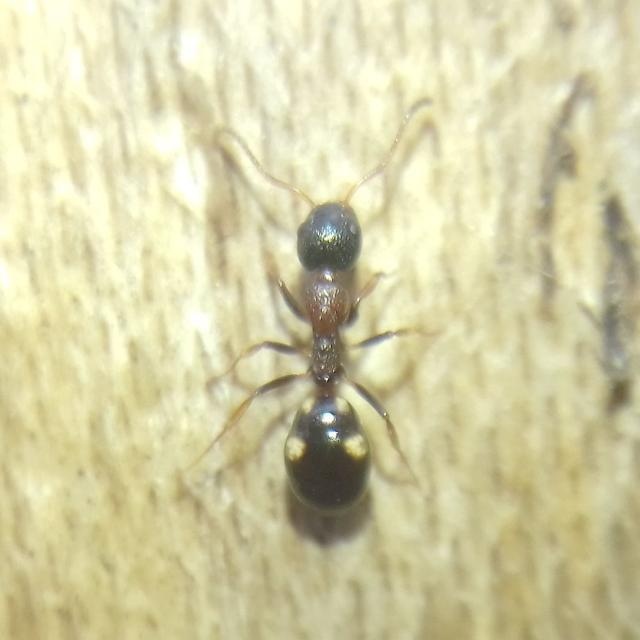Dolichoderus: (227, 140, 436, 544)
